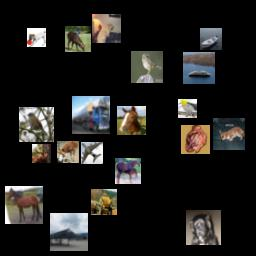airplane: (50, 213, 88, 251), (81, 142, 103, 164), (178, 99, 197, 118)
bird: (19, 107, 54, 142), (131, 51, 163, 83)
deer: (65, 26, 91, 52), (32, 144, 51, 163)
dog: (186, 210, 221, 245), (213, 118, 245, 150), (92, 14, 121, 43), (27, 28, 46, 47)
frog: (181, 125, 210, 154)
ship: (183, 52, 215, 84), (200, 28, 222, 50)
truck: (72, 96, 110, 134), (91, 189, 117, 215)
